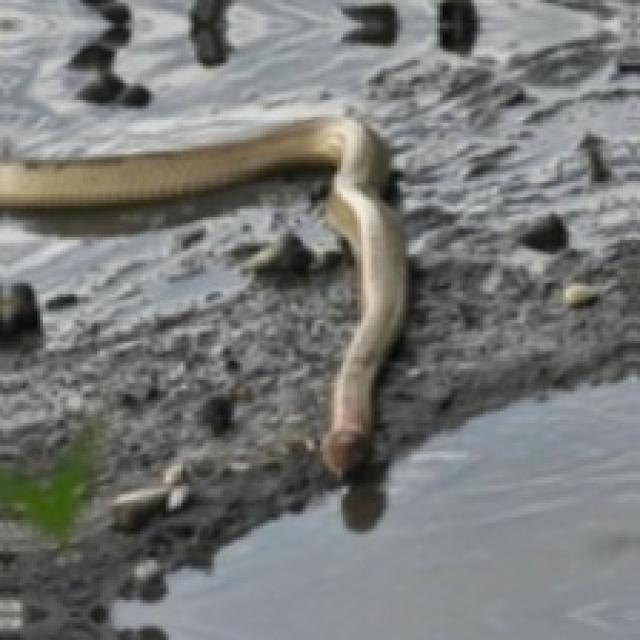king cobra: (0, 117, 406, 474)
